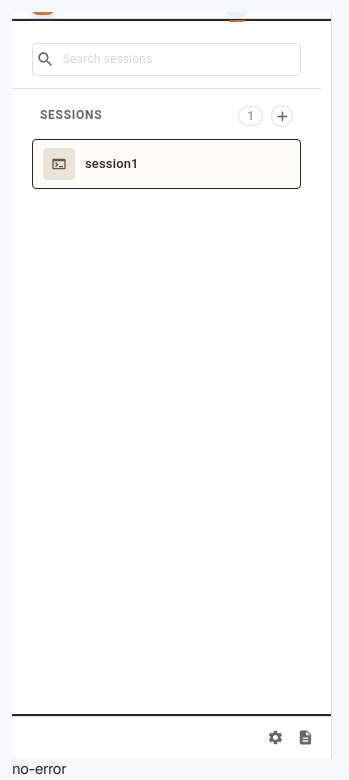
it: Sidebar session loading › handleOpenSession error path › listWindows failure sets error in store
This screenshot has width=349, height=780.
(page scrolled)
Expected: the element with test id "session-card-session1" is shown, top-left (32, 139), bottom-right (301, 189)
Click the button with test id "session-open-session1" at [91, 164], box top-left (43, 148), bottom-right (139, 180)
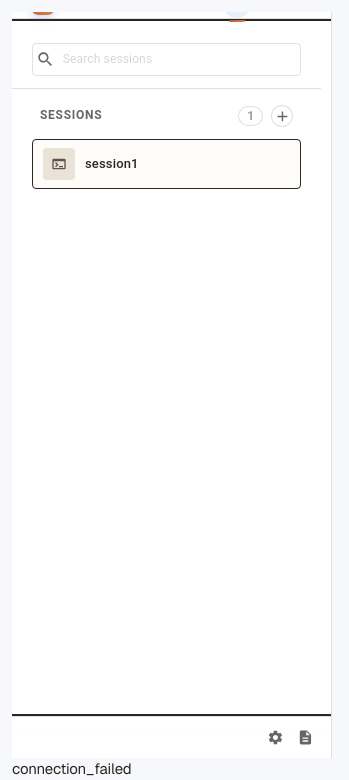
Now the text with test id "error-state" reads "connection_failed", box top-left (12, 759), bottom-right (132, 778)
